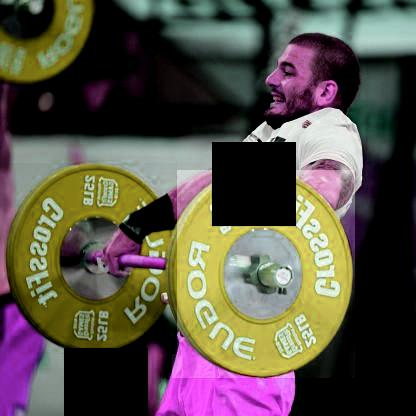barbell: (171, 170, 354, 379), (8, 164, 176, 354)
